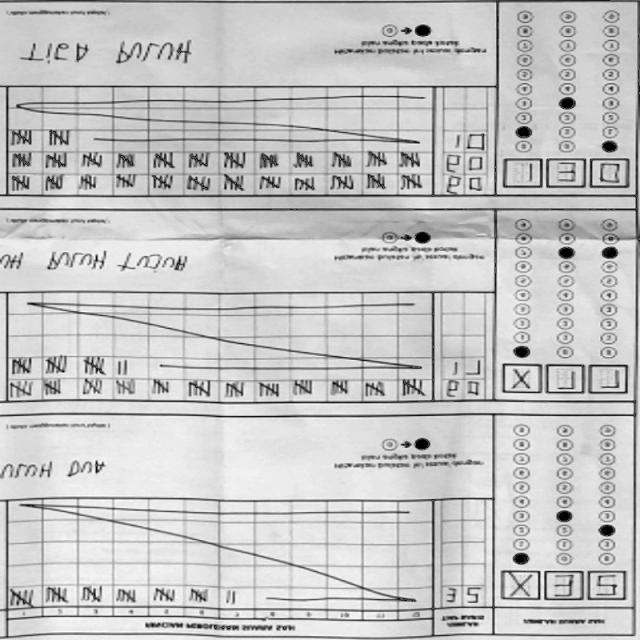Suara: (496, 359, 631, 399), (496, 154, 631, 194), (496, 566, 630, 606)
